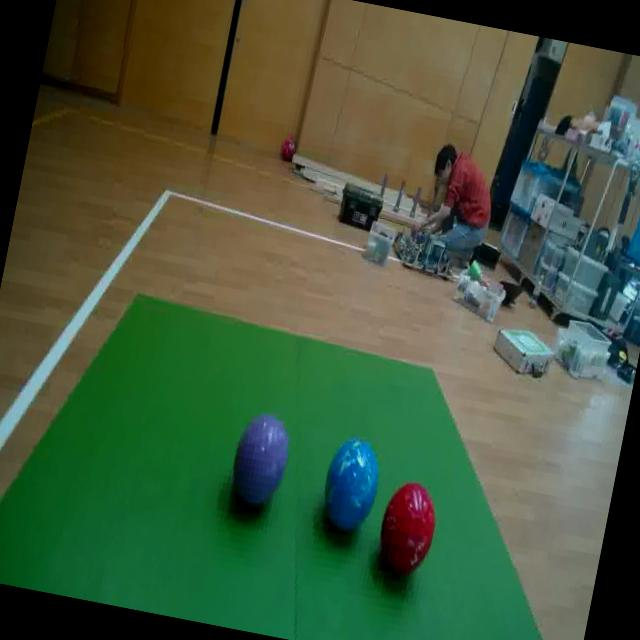blue_ball: (316, 434, 386, 536)
purple_ball: (227, 412, 295, 514)
red_ball: (374, 478, 442, 584)
